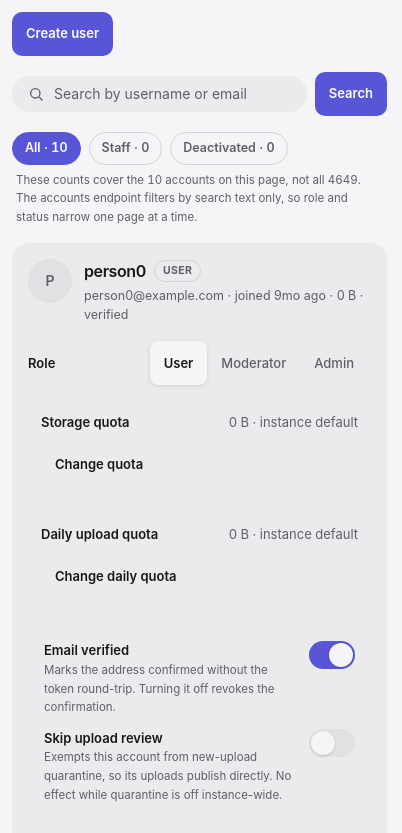
Test: AdminUsersView facet counts › a facet that empties a page does not claim the instance has none
The image size is (402, 833).
Click the button "Staff · 0" at (125, 148), box [88,132,162,165]
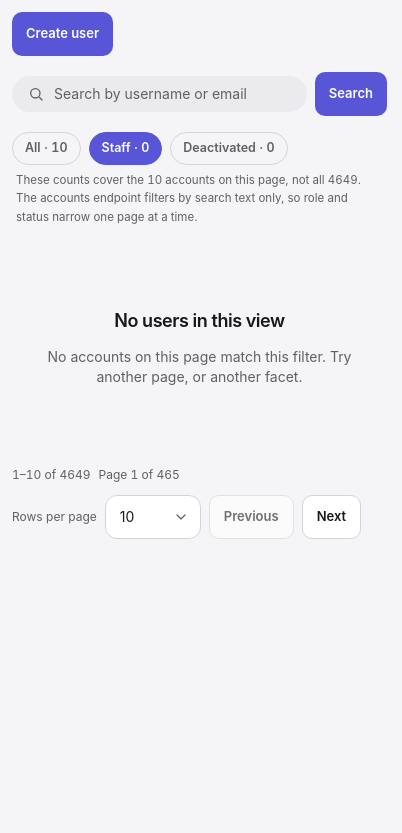
Result: the text "No accounts on this page match this filter. Try another page, or another facet." is shown at [36,347,363,387]
